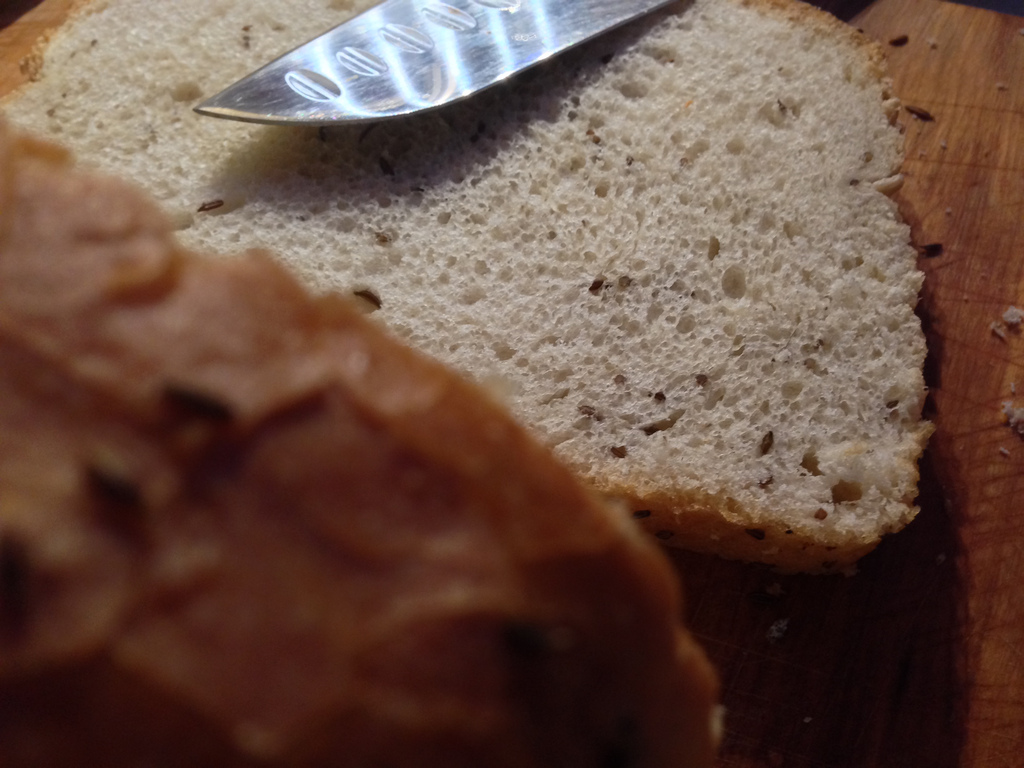slice of bread: (13, 4, 968, 601)
